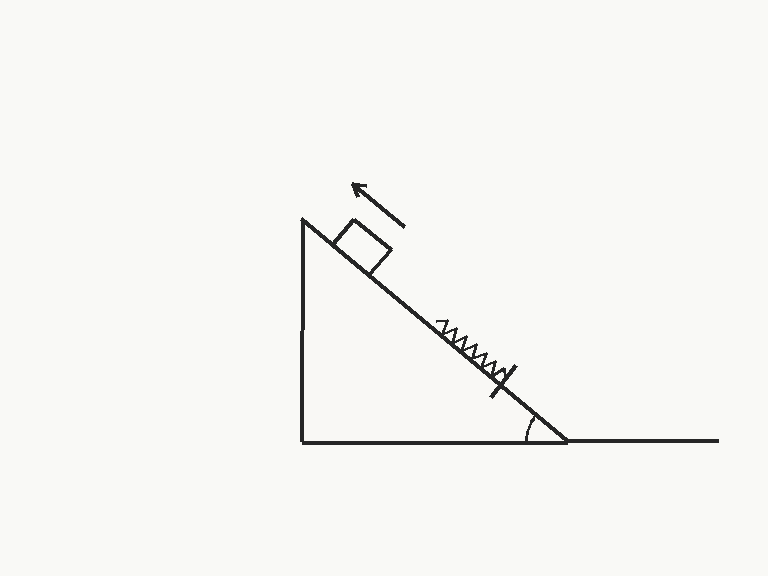block: (331, 217, 392, 277)
ramp: (299, 217, 568, 443)
spring: (435, 317, 508, 380)
